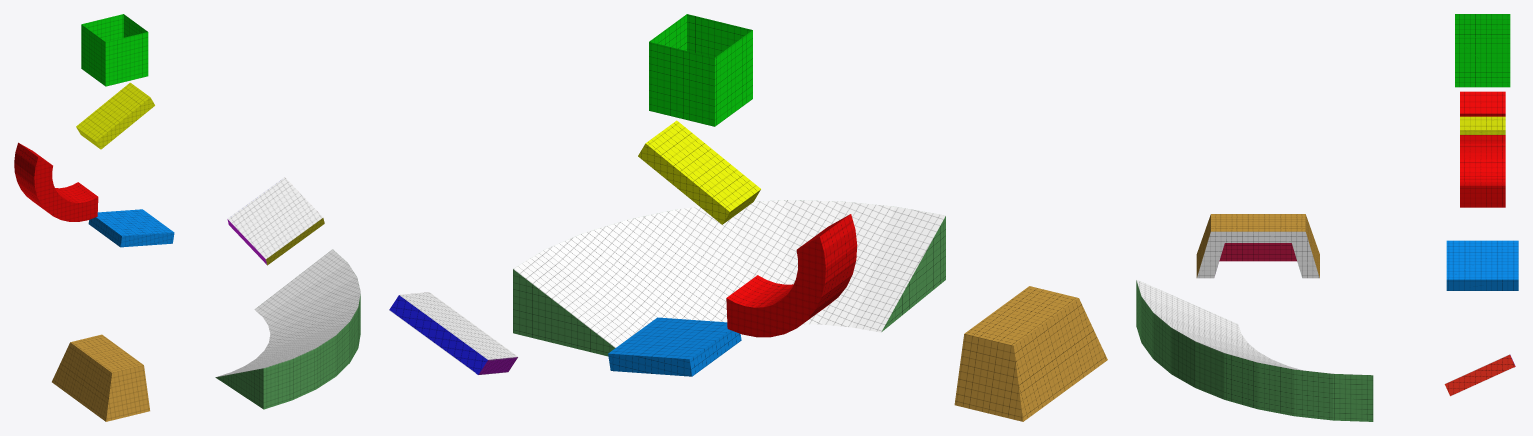
The model's file is MeshColliderDemo_GeomOnly.fbx.
3 renders of one model, left to right at view 1: azimuth 30°, elevation 25°; view 2: azimuth 150°, elevation 25°; view 3: azimuth 270°, elevation 25°, orthographic. The views are drawn at different scales.
Parts seen in each view (by area): view 1: Cube.103, Cube.001, MarbleCourse.003, FactorySpawner.001, MarbleCourse, MarbleCourse.002, MarbleCourse.001; view 2: Cube.103, Cube.001, FactorySpawner.001, MarbleCourse, MarbleCourse.002, MarbleCourse.001, MarbleCourse.003; view 3: Cube.103, Cube.001, MarbleCourse, FactorySpawner.001, MarbleCourse.001, MarbleCourse.003, MarbleCourse.002.
Boxes of the visible parts, left/top/right/bottom form: Cube.103: left=215, top=249, right=360, bottom=409; Cube.001: left=52, top=334, right=150, bottom=421; MarbleCourse.003: left=227, top=177, right=324, bottom=265; FactorySpawner.001: left=81, top=14, right=148, bottom=86; MarbleCourse: left=14, top=142, right=98, bottom=221; MarbleCourse.002: left=76, top=82, right=154, bottom=149; MarbleCourse.001: left=88, top=209, right=174, bottom=247; Cube.103: left=513, top=200, right=945, bottom=356; Cube.001: left=954, top=286, right=1107, bottom=421; FactorySpawner.001: left=649, top=14, right=752, bottom=126; MarbleCourse: left=726, top=214, right=857, bottom=337; MarbleCourse.002: left=638, top=120, right=760, bottom=224; MarbleCourse.001: left=608, top=317, right=741, bottom=376; MarbleCourse.003: left=389, top=292, right=517, bottom=374; Cube.103: left=1136, top=279, right=1373, bottom=421; Cube.001: left=1196, top=214, right=1319, bottom=278; MarbleCourse: left=1460, top=91, right=1505, bottom=207; FactorySpawner.001: left=1455, top=14, right=1510, bottom=87; MarbleCourse.001: left=1446, top=240, right=1518, bottom=290; MarbleCourse.003: left=1444, top=354, right=1515, bottom=396; MarbleCourse.002: left=1460, top=116, right=1505, bottom=134.
Size of what is drawn, in the model's own units: 7.17 by 5.55 by 6.35.
